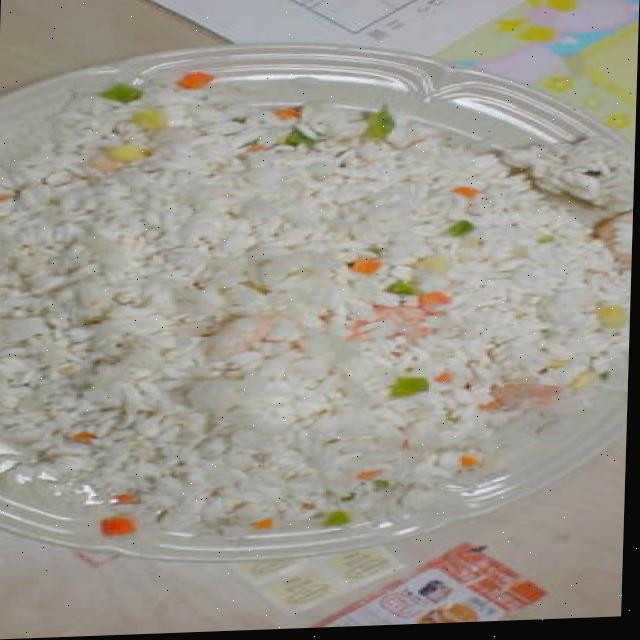米饭主食: (0, 259, 512, 640)
